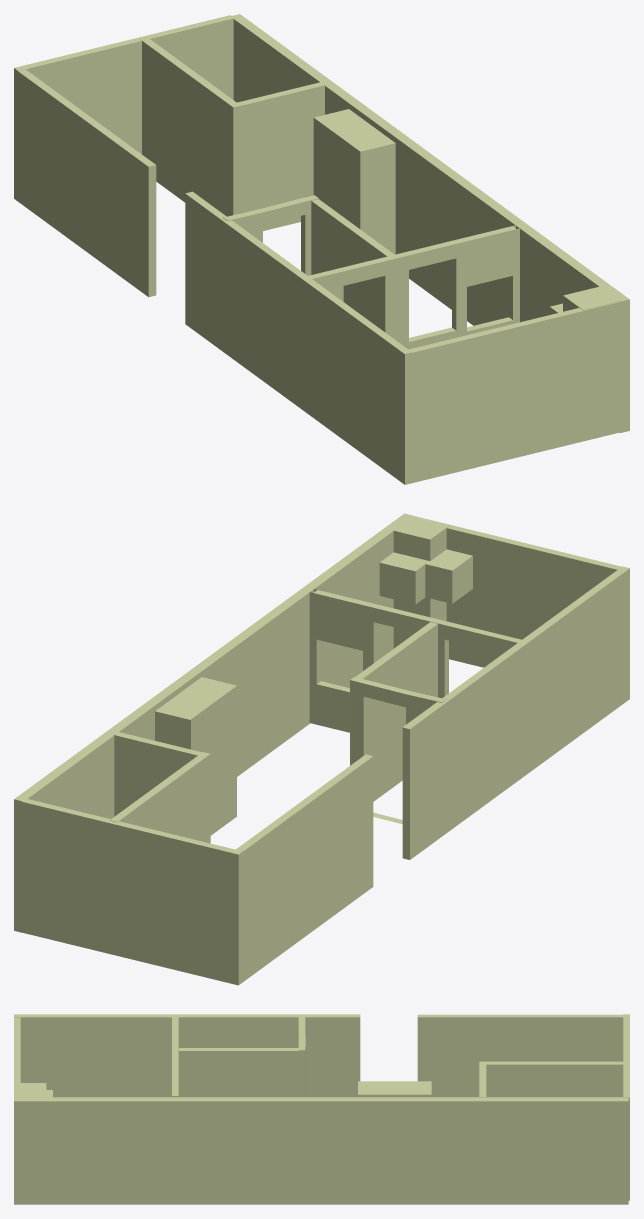
3 views of the same model, one above another, from view 1: azimuth 30°, elevation 25°; view 2: azimuth 150°, elevation 25°; view 3: azimuth 270°, elevation 25° (orthographic). The views are drawn at different scales.
Visible parts, largest first — view 1: Cube.003; view 2: Cube.003; view 3: Cube.003.
Part boxes in pixels (x1,y1,x2,y2): Cube.003: (14, 14, 629, 484); Cube.003: (14, 513, 629, 985); Cube.003: (14, 1014, 629, 1204).
Bounding box in the file's own units: 562 × 315 × 1689.
